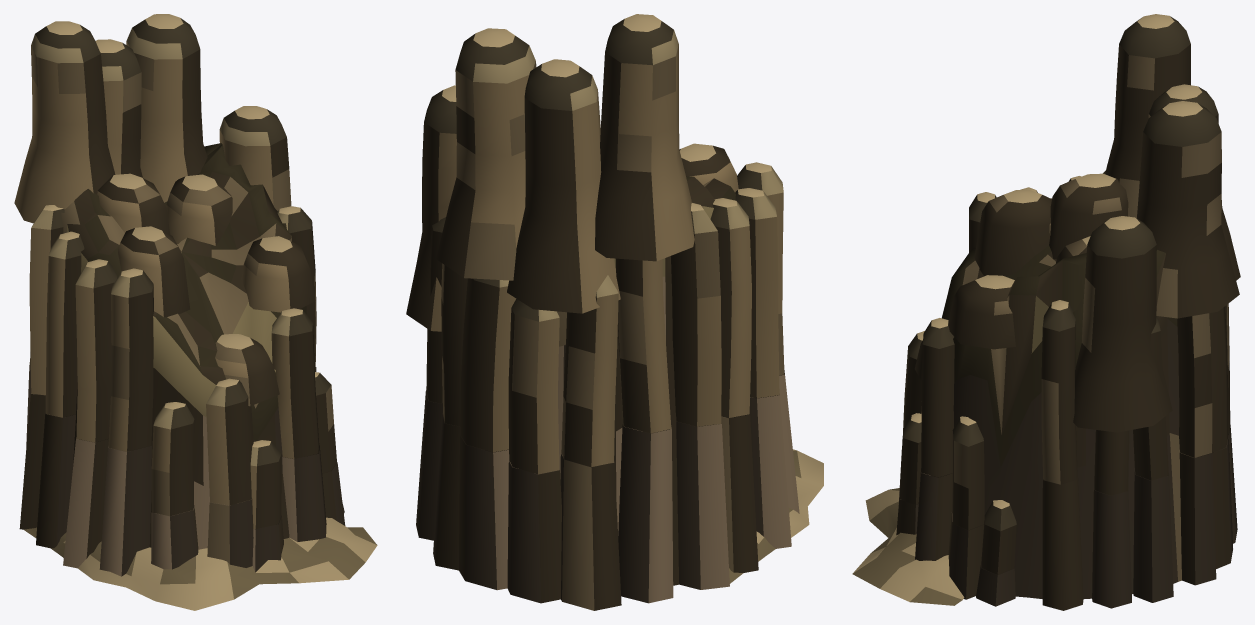
The model's file is ZonTmound06.glb.
3 views of the same model, side by side, from view 1: azimuth 30°, elevation 25°; view 2: azimuth 150°, elevation 25°; view 3: azimuth 270°, elevation 25° (orthographic). The views are drawn at different scales.
Parts seen in each view (by area): view 1: mound_core; view 2: mound_core; view 3: mound_core.
Boxes of the visible parts, bbox=[...] form: mound_core: bbox=[14, 14, 377, 610]; mound_core: bbox=[406, 14, 823, 610]; mound_core: bbox=[852, 14, 1240, 610].
Bounding box in the file's own units: 2.58 × 4.22 × 3.04.
